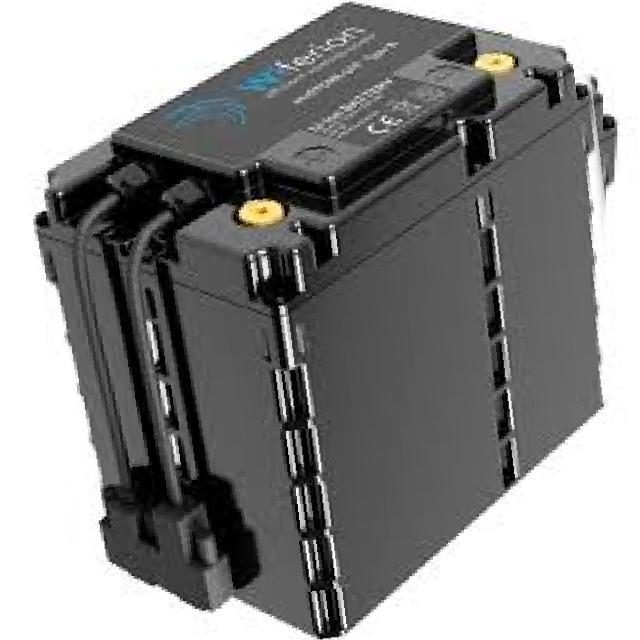Battery: (36, 0, 628, 640)
